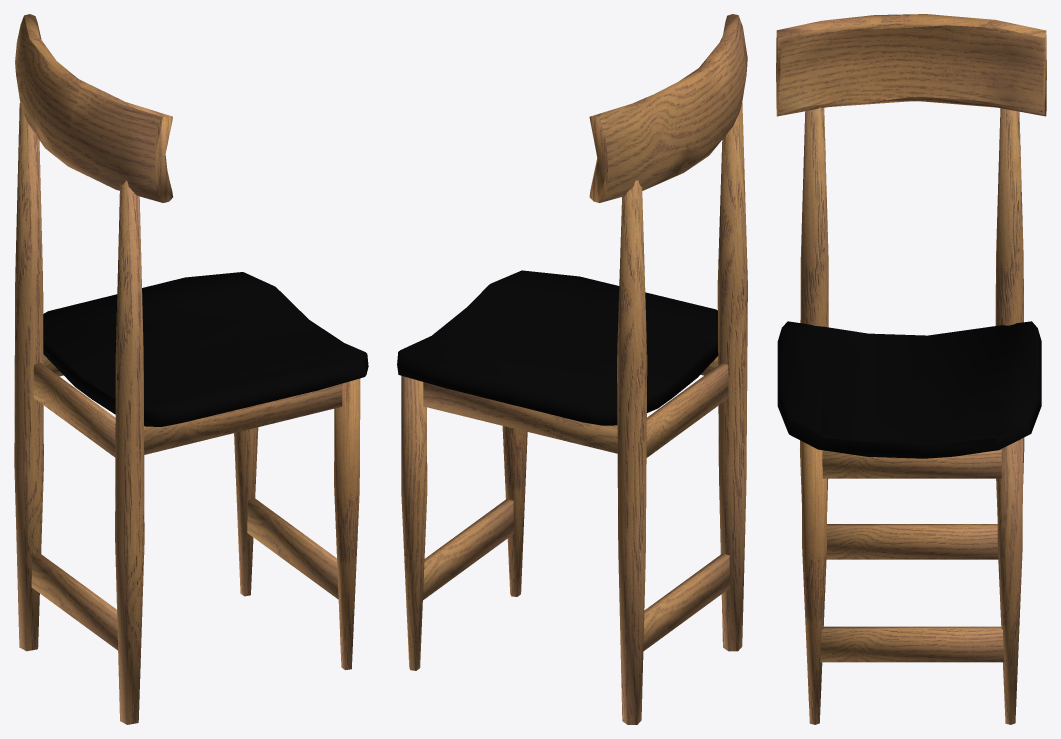
Rendered from Sedia5.fbx.
3 renders of one model, left to right at view 1: azimuth 30°, elevation 25°; view 2: azimuth 150°, elevation 25°; view 3: azimuth 270°, elevation 25°, orthographic. The views are drawn at different scales.
Parts seen in each view (by area): view 1: GambaDietro.011; view 2: GambaDietro.011; view 3: GambaDietro.011.
Boxes of the visible parts, bbox=[...] form: GambaDietro.011: bbox=[14, 14, 368, 724]; GambaDietro.011: bbox=[397, 14, 747, 724]; GambaDietro.011: bbox=[776, 14, 1046, 724].
Size of the model in its own units: 45.89 by 100 by 41.14.
Materials: 12 (11 with a texture image).
